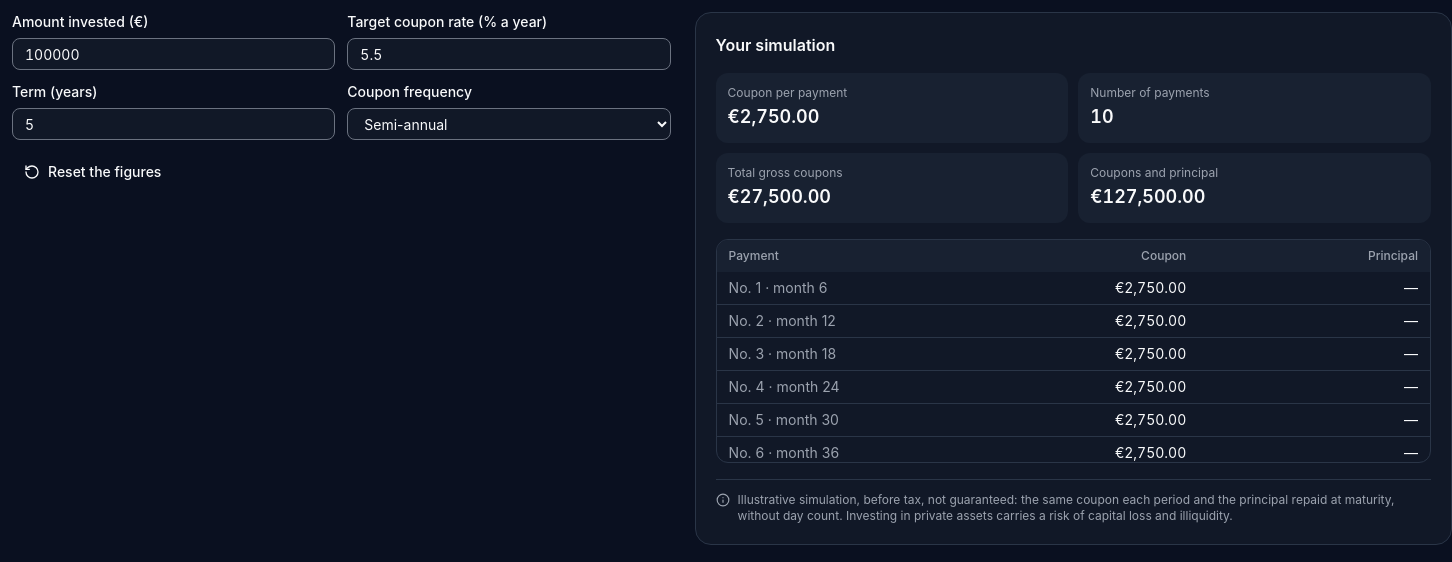
investor coupon simulator (page) › shows the coupons of the default figures and follows the frequency chosen
Check: the text "€2,750.00" is shown, box [728, 106, 819, 127]
Check: the text "€127,500.00" is shown, box [1090, 186, 1205, 207]
Select "Quarterly" in the dropdown labelled "Coupon frequency" at [509, 124], box [347, 108, 671, 140]
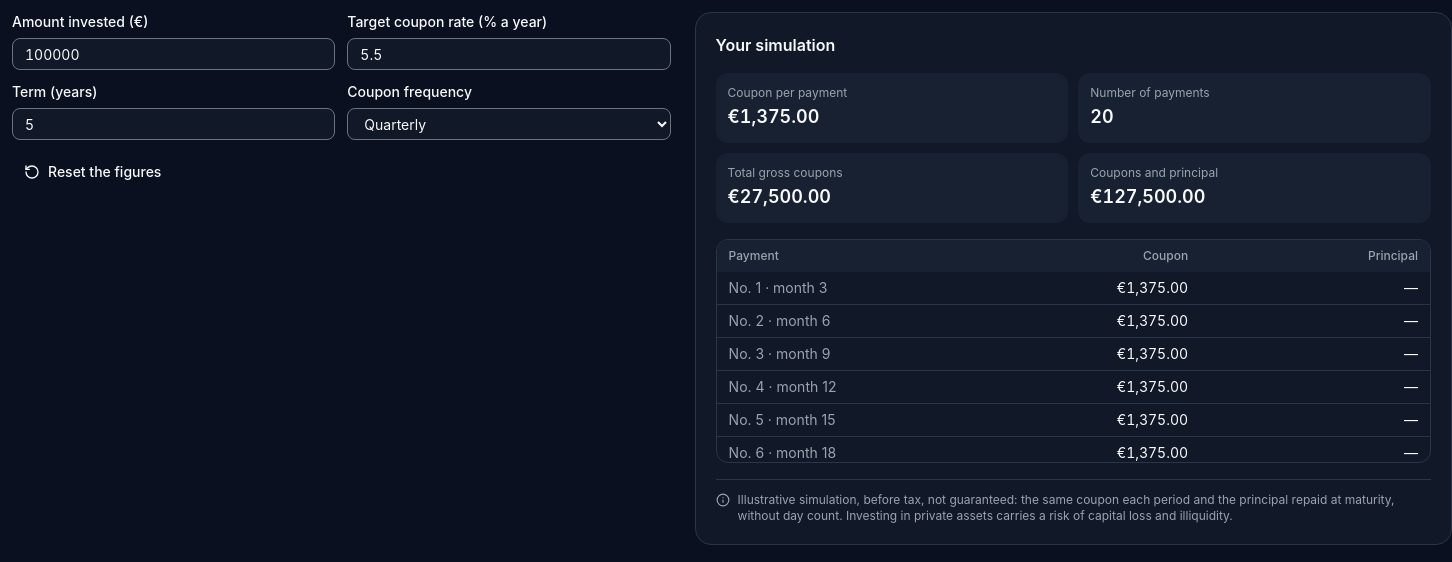
Check: the text "€1,375.00" is shown, box [728, 106, 819, 127]
Check: the text "20" is shown, box [1090, 106, 1114, 127]
